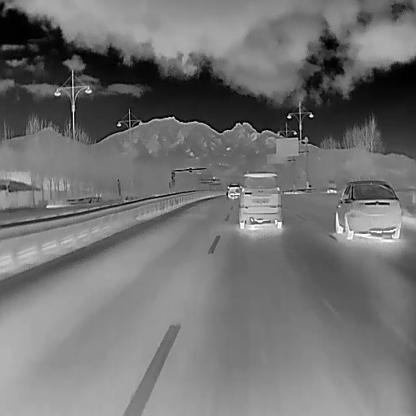car: (335, 178, 402, 240), (238, 169, 282, 228), (226, 181, 241, 199), (326, 177, 337, 194)
